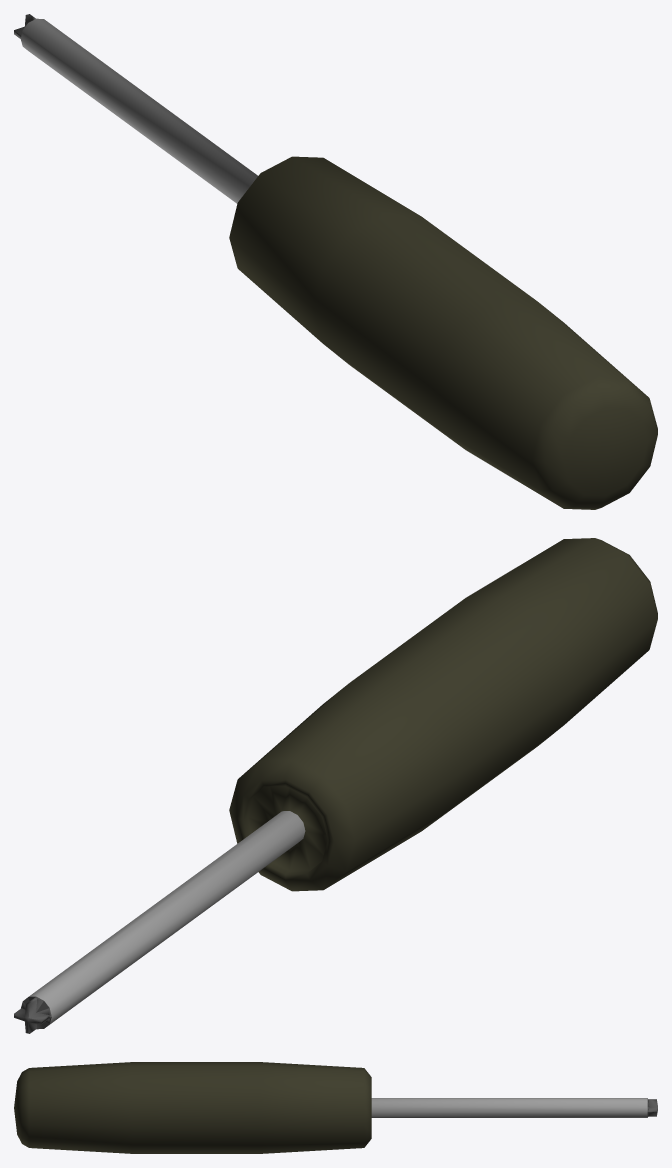
Rendered from screwdriver2.fbx.
The picture shows the model from 3 angles, top to bottom: view 1: azimuth 30°, elevation 25°; view 2: azimuth 150°, elevation 25°; view 3: azimuth 270°, elevation 25°; orthographic projection. The views are drawn at different scales.
Parts seen in each view (by area): view 1: Cube; view 2: Cube; view 3: Cube.
Part boxes in pixels (x1,y1,x2,y2): Cube: (14, 14, 657, 509); Cube: (14, 538, 657, 1033); Cube: (14, 1062, 657, 1153).
Size of the model in its own units: 230 by 230 by 1603.
